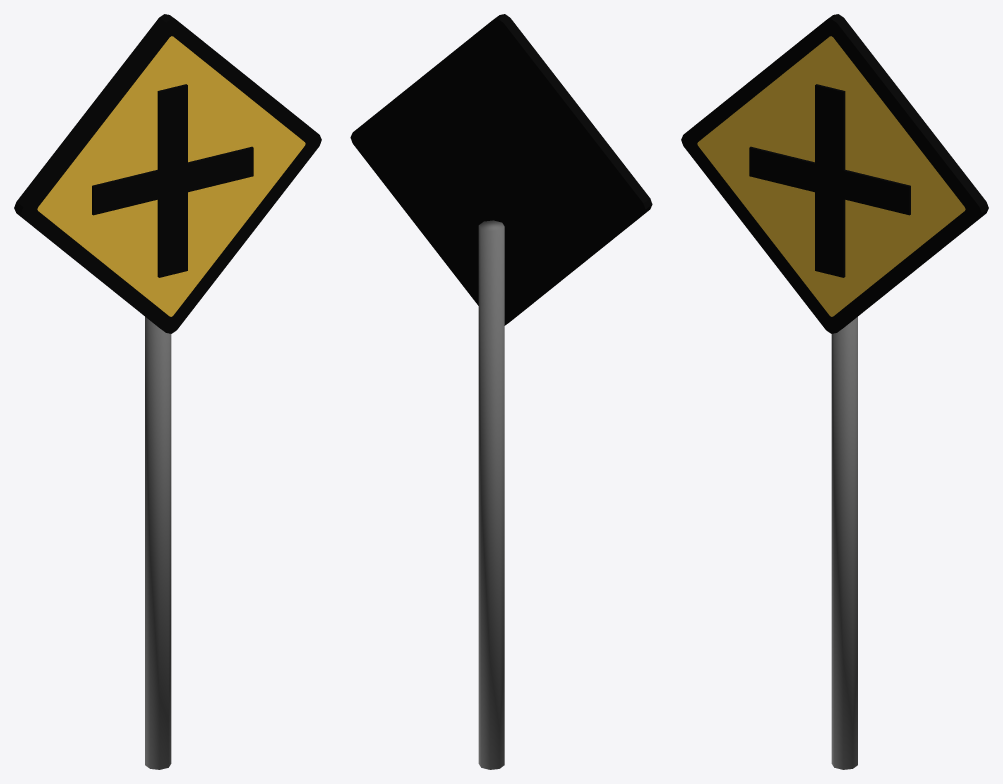
Rendered from Prop_StreetSign_Cross.fbx.
The picture shows the model from 3 angles, left to right: view 1: azimuth 30°, elevation 25°; view 2: azimuth 150°, elevation 25°; view 3: azimuth 330°, elevation 25°; orthographic projection.
Parts seen in each view (by area): view 1: Prop_StreetSign_Cross; view 2: Prop_StreetSign_Cross; view 3: Prop_StreetSign_Cross.
Boxes of the visible parts, x1,y1,x2,y2 form: Prop_StreetSign_Cross: (14, 14, 321, 769); Prop_StreetSign_Cross: (350, 14, 652, 769); Prop_StreetSign_Cross: (681, 14, 988, 769).
Bounding box in the file's own units: 190 × 455 × 23.54.
